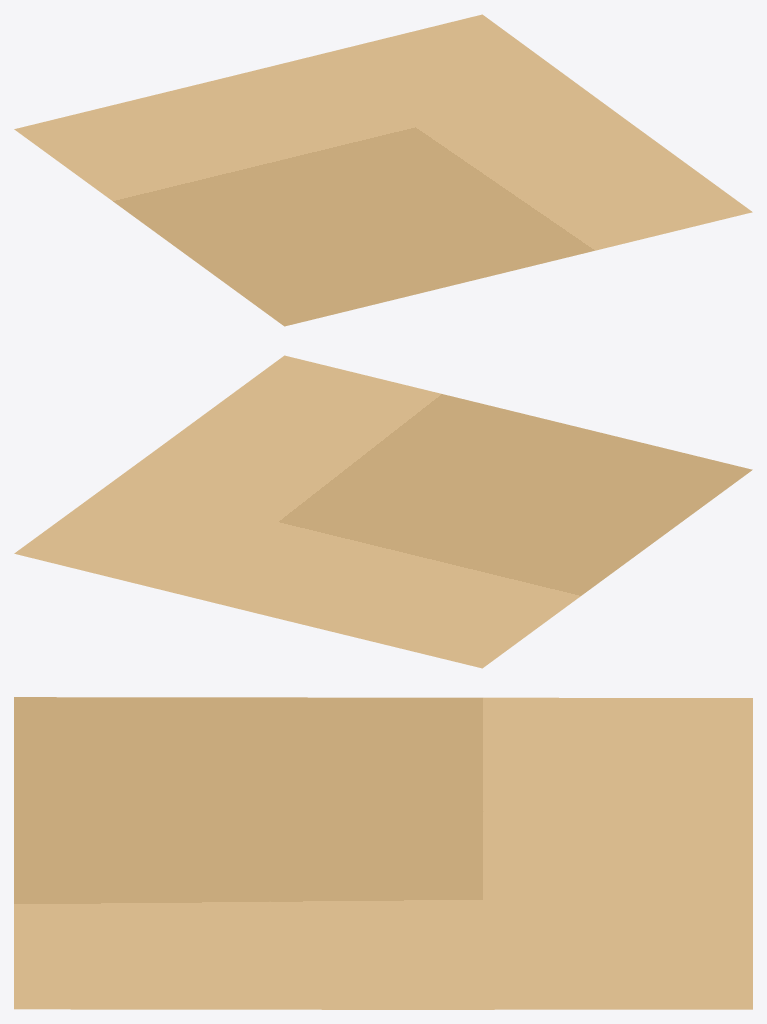
3 views of the same model, one above another, from view 1: azimuth 30°, elevation 25°; view 2: azimuth 150°, elevation 25°; view 3: azimuth 270°, elevation 25° (orthographic). The views are drawn at different scales.
Bounding box in the file's own units: 1 × 0.00146 × 1.
Materials: 1 (1 with a texture image).
